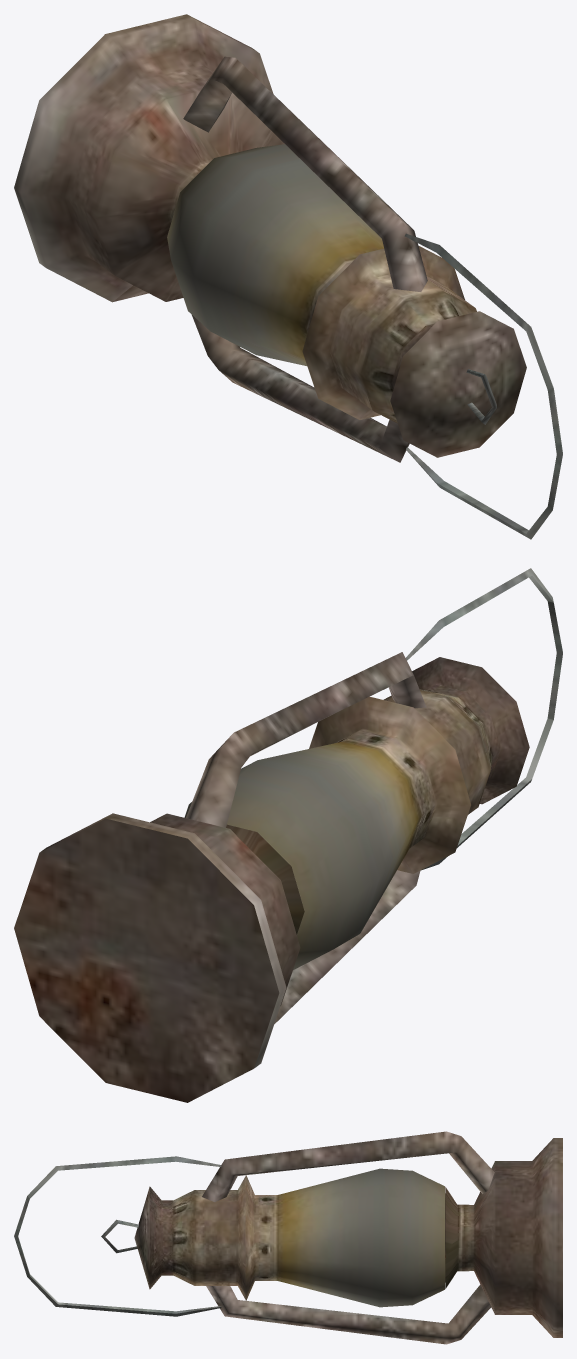
Rendered from light_lantern_off.glb.
3 renders of one model, top to bottom at view 1: azimuth 30°, elevation 25°; view 2: azimuth 150°, elevation 25°; view 3: azimuth 270°, elevation 25°, orthographic. The views are drawn at different scales.
Bounding box in the file's own units: 10.28 × 12.05 × 28.01.
Materials: 2 (2 with a texture image).
